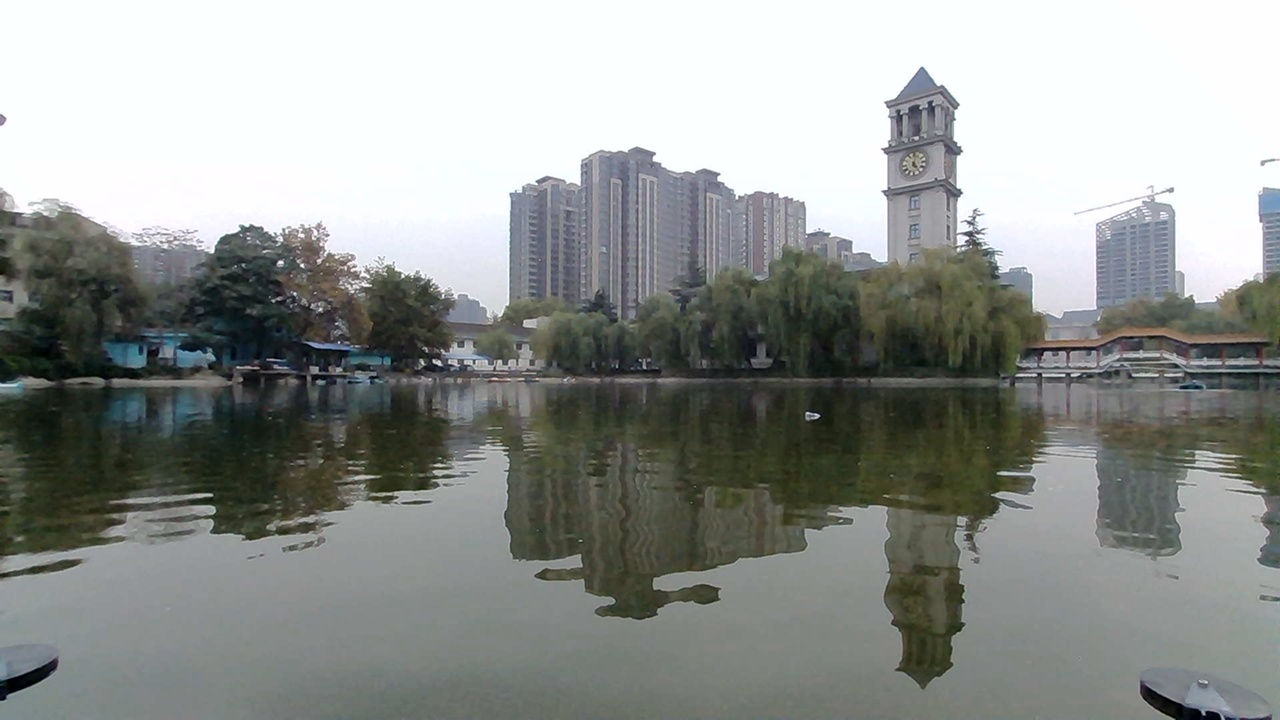bottle: (801, 398, 840, 428)
